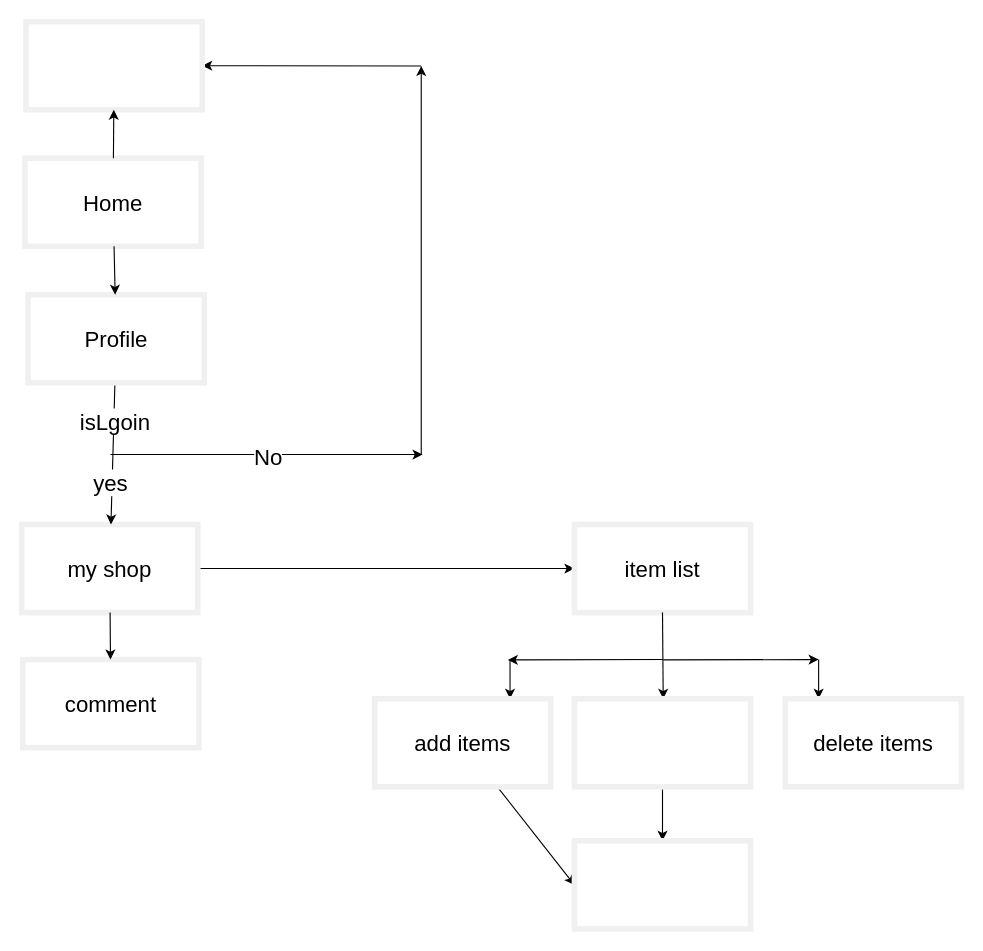
This 983x951 diagram has some shape labels left out. The centre of each missing label's shape, as x and y in pixels:
"compare items" belongs at (x=662, y=884).
"Login" belongs at (x=113, y=65).
"update items" belongs at (x=662, y=742).
